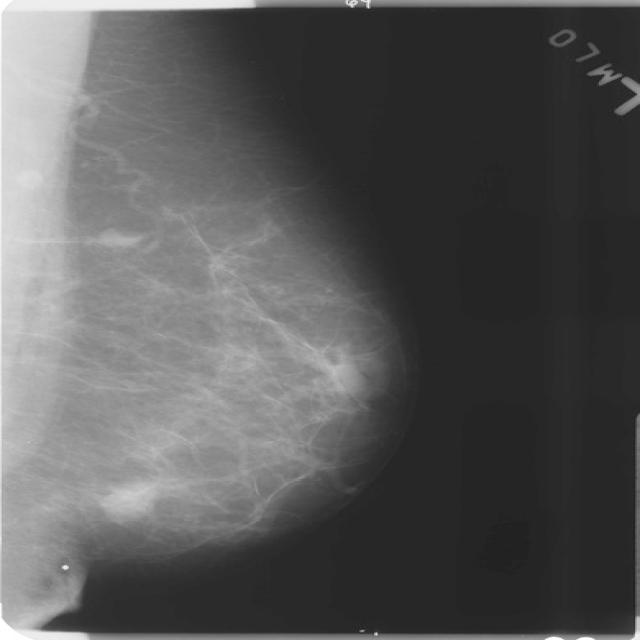tumour: (99, 482, 158, 523)
